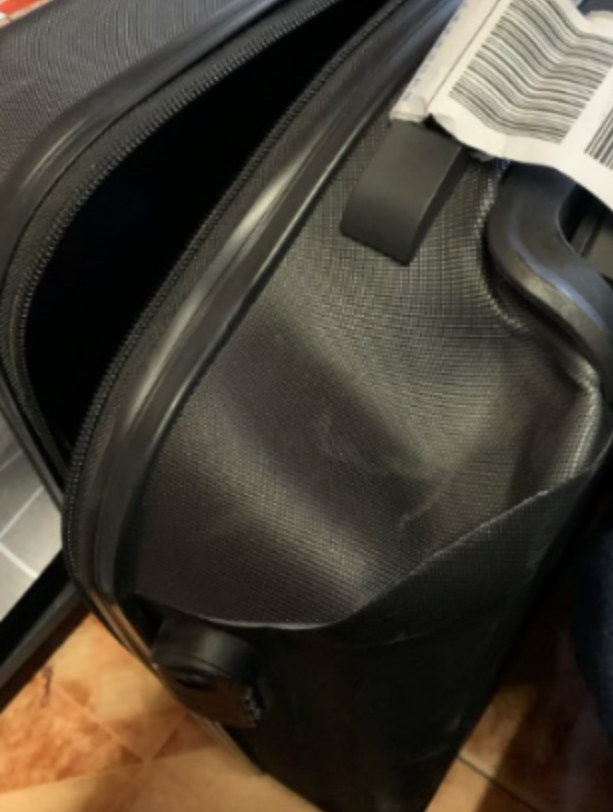rupture: (179, 291, 447, 604), (487, 315, 606, 521)
